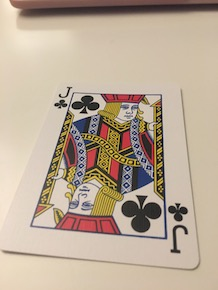JackOfClubs: (1, 76, 206, 275)
